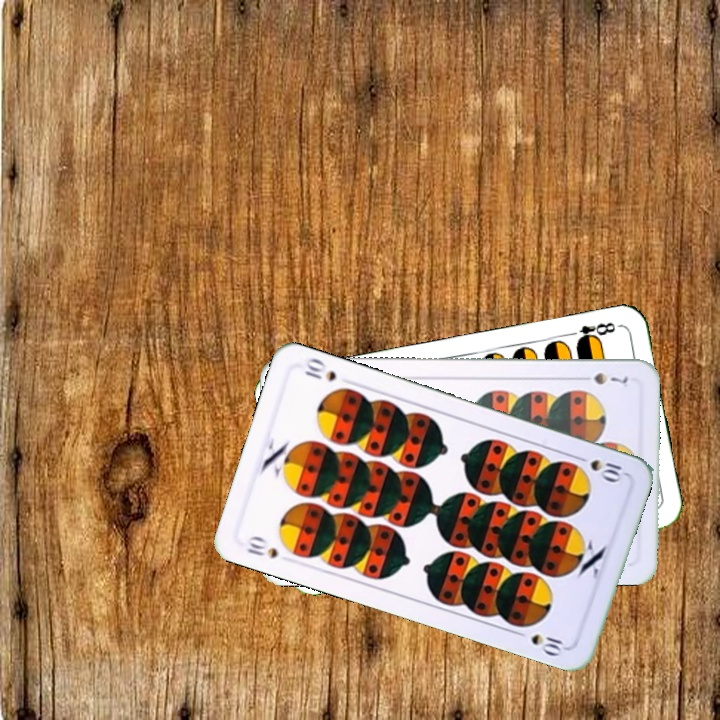E8: (563, 318, 618, 348)
S10: (571, 451, 628, 484), (243, 532, 281, 561)
S7: (575, 369, 631, 388)
